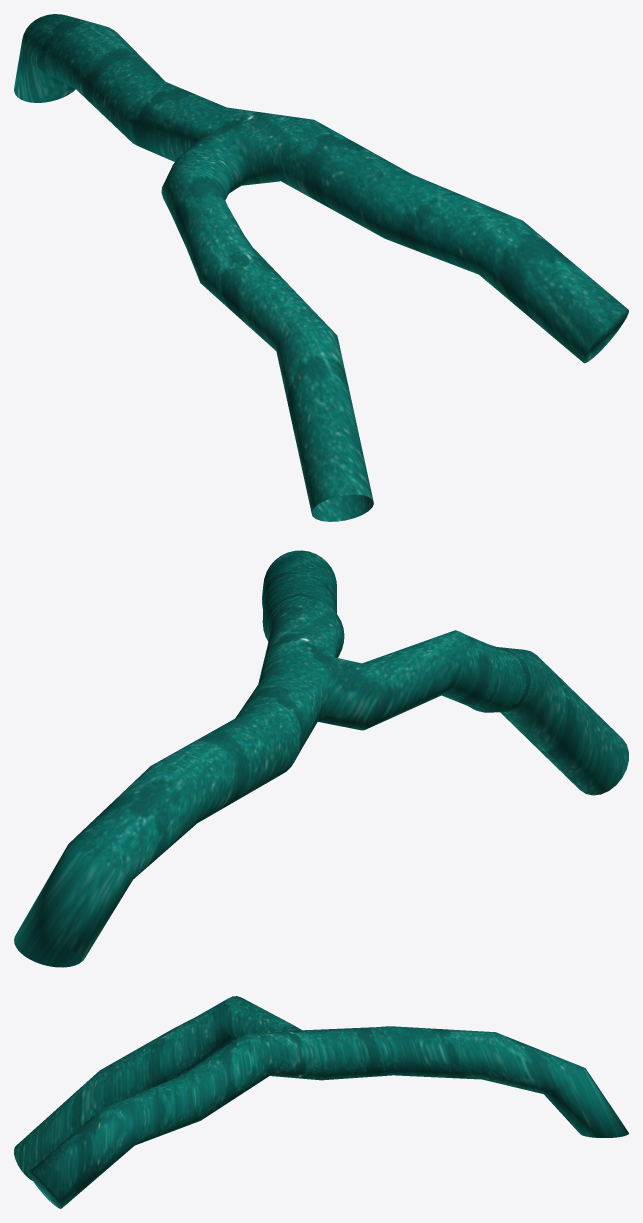
Rendered from branche2.fbx.
3 renders of one model, top to bottom at view 1: azimuth 30°, elevation 25°; view 2: azimuth 150°, elevation 25°; view 3: azimuth 270°, elevation 25°, orthographic. The views are drawn at different scales.
Parts seen in each view (by area): view 1: Cylinder.004; view 2: Cylinder.004; view 3: Cylinder.004.
Part boxes in pixels (box(x1,y1,x2,y2)): Cylinder.004: box(14, 14, 628, 521); Cylinder.004: box(14, 550, 628, 967); Cylinder.004: box(14, 996, 628, 1208).
Size of the model in its own units: 209 by 157 by 473.
Materials: 1 (1 with a texture image).
